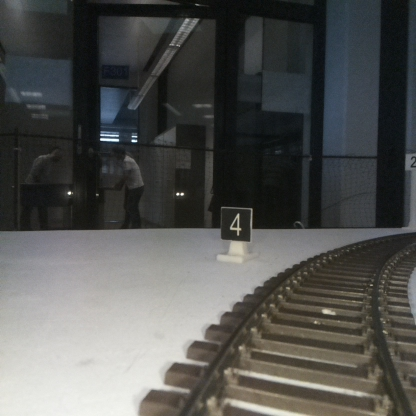black-stop-4: (220, 208, 251, 258)
